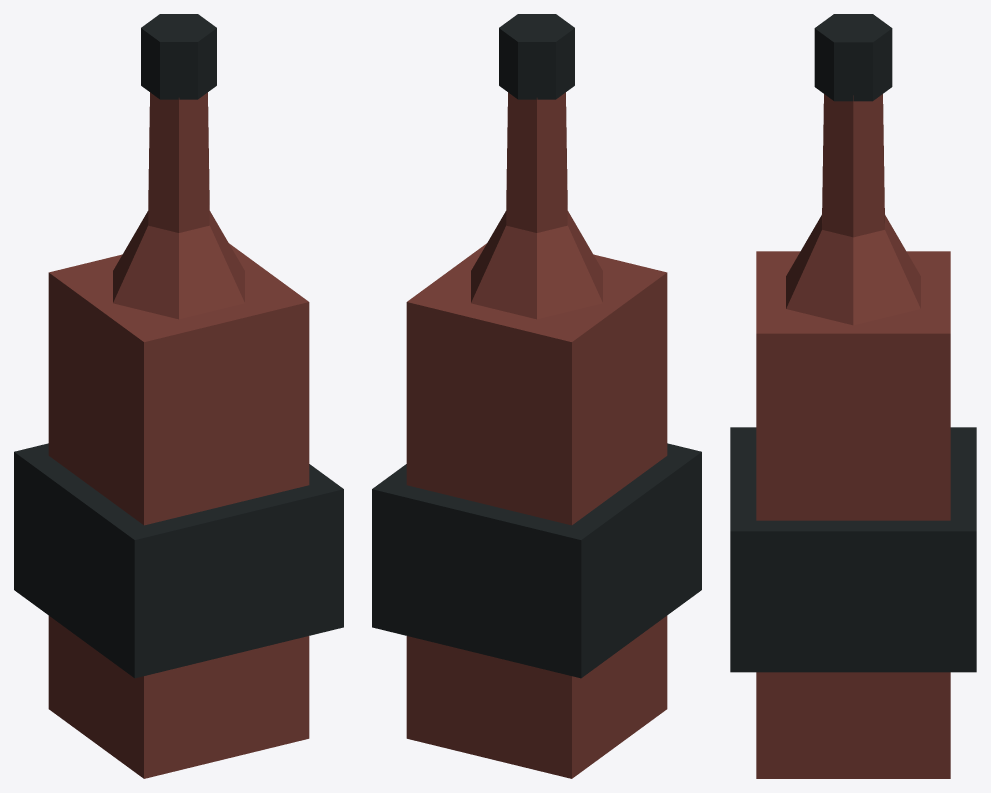
The model's file is sticla_whiskey.glb.
3 renders of one model, left to right at view 1: azimuth 30°, elevation 25°; view 2: azimuth 150°, elevation 25°; view 3: azimuth 270°, elevation 25°, orthographic.
Parts seen in each view (by area): view 1: Sticla; view 2: Sticla; view 3: Sticla.
Part boxes in pixels (left/top/right/bottom): Sticla: left=14, top=14, right=343, bottom=778; Sticla: left=372, top=14, right=701, bottom=778; Sticla: left=730, top=14, right=976, bottom=778.
Bounding box in the file's own units: 0.095 × 0.302 × 0.095.
